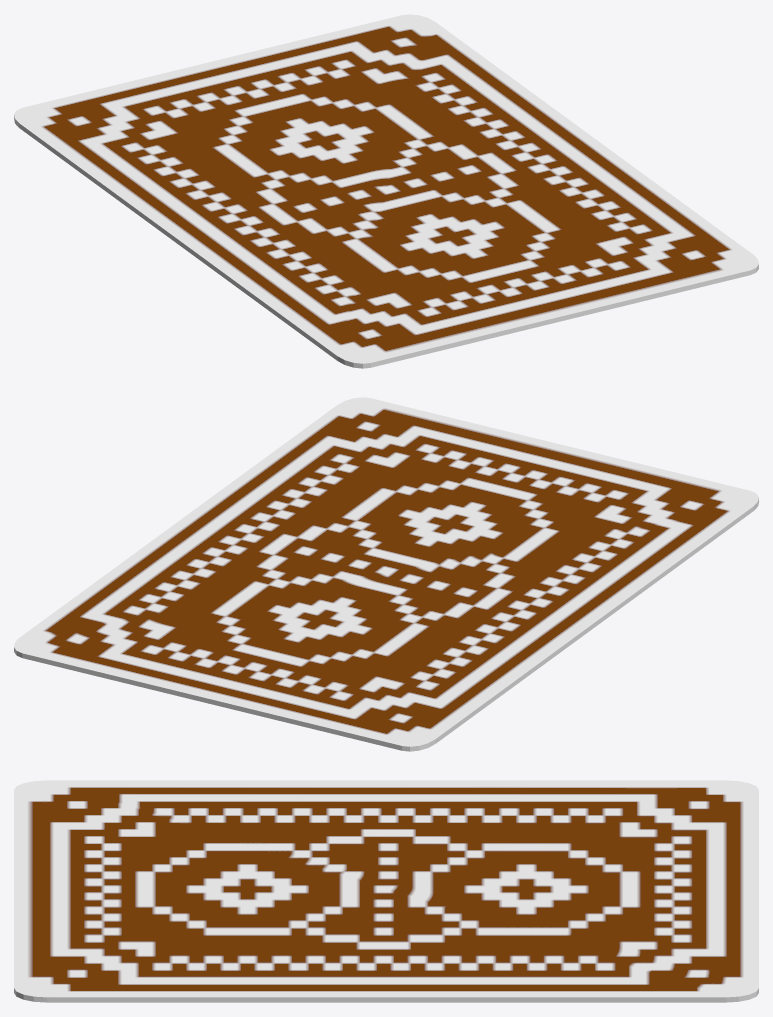
File: card.fbx
3 views of the same model, one above another, from view 1: azimuth 30°, elevation 25°; view 2: azimuth 150°, elevation 25°; view 3: azimuth 270°, elevation 25° (orthographic). The views are drawn at different scales.
Parts seen in each view (by area): view 1: Plane; view 2: Plane; view 3: Plane.
Part boxes in pixels (box(x1,y1,x2,y2)): Plane: box(14, 14, 758, 368); Plane: box(14, 397, 758, 751); Plane: box(14, 780, 758, 1002).
Bounding box in the file's own units: 270 × 3 × 392.
Materials: 1 (1 with a texture image).
